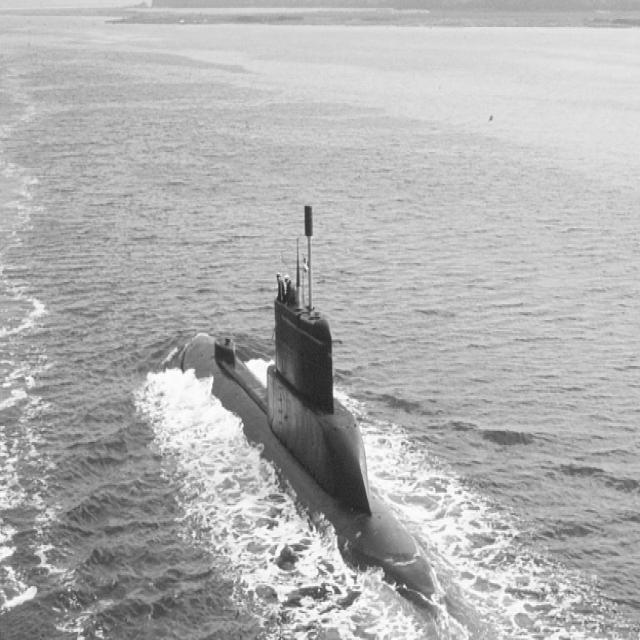submarine: (172, 302, 448, 620)
